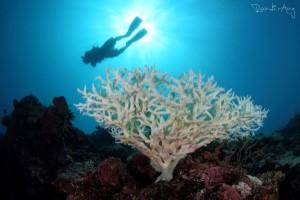bleached_corals: (65, 11, 271, 200)
